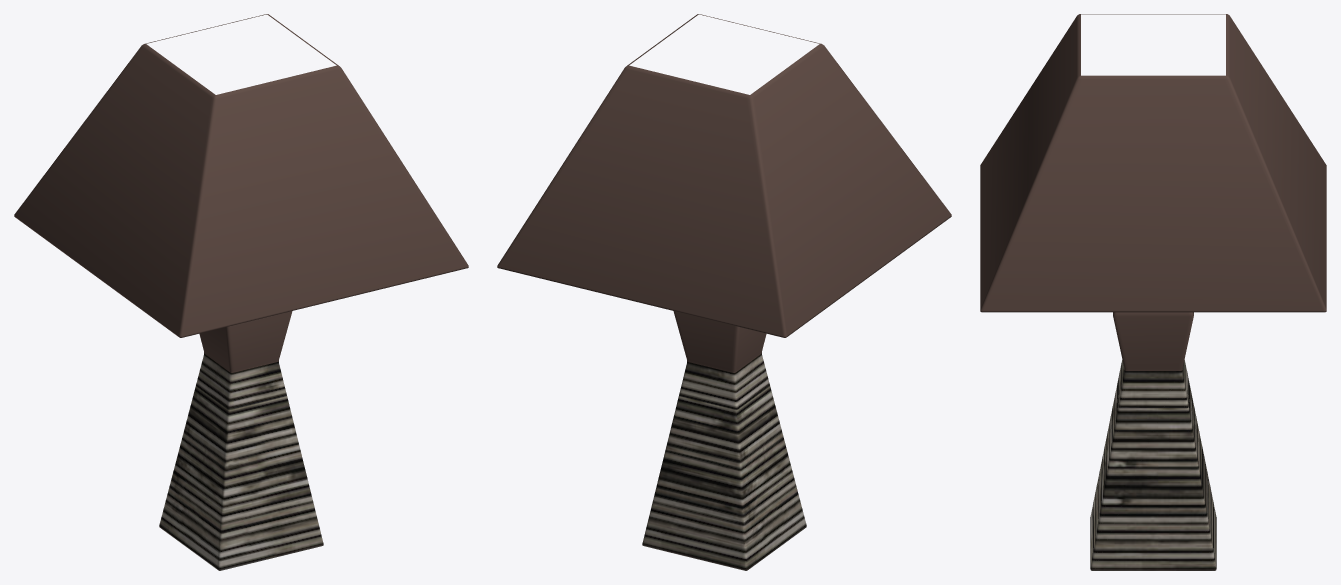
The picture shows the model from 3 angles, left to right: view 1: azimuth 30°, elevation 25°; view 2: azimuth 150°, elevation 25°; view 3: azimuth 270°, elevation 25°; orthographic projection. The views are drawn at different scales.
Visible parts, largest first — view 1: Node; view 2: Node; view 3: Node.
Boxes of the visible parts, x1,y1,x2,y2 form: Node: (14,14,468,570); Node: (497,14,951,570); Node: (980,14,1326,570).
Size of the model in its own units: 0.2385 by 0.3806 by 0.2385.
Materials: 4 (1 with a texture image).
